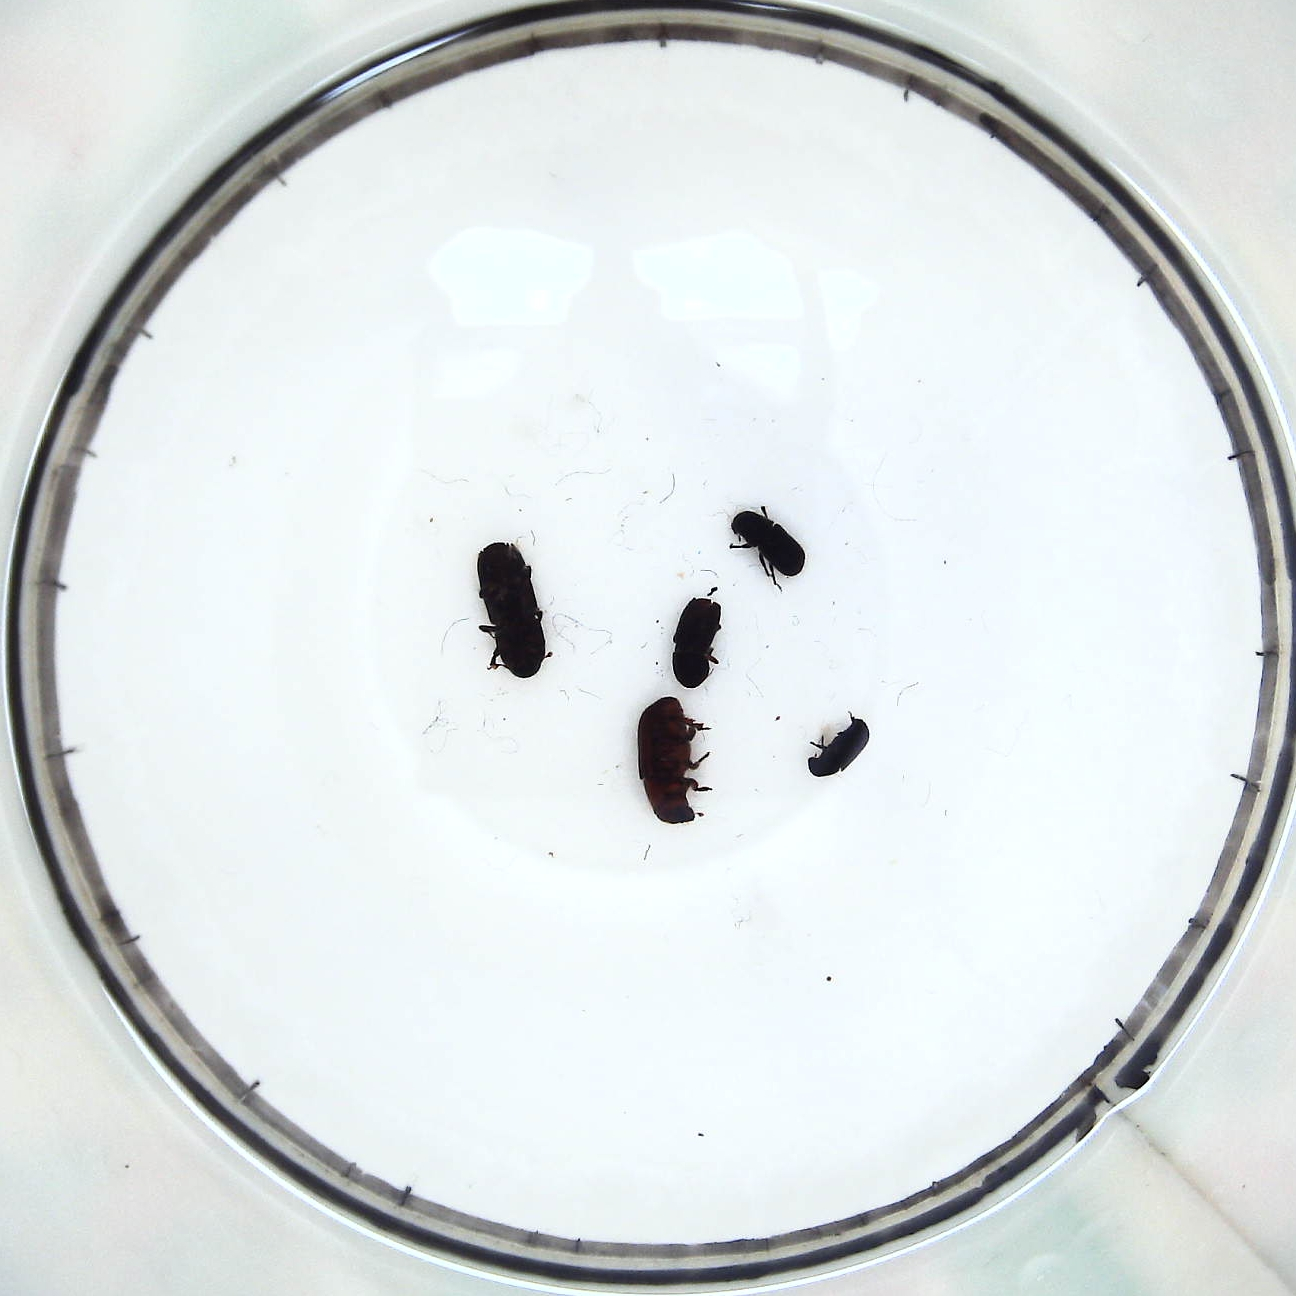Boerner: (474, 536, 551, 684)
Leconte: (636, 695, 712, 824)
Linnaeus: (673, 593, 725, 688)
armandi: (728, 509, 805, 587)
coleoptera: (808, 718, 875, 781)
